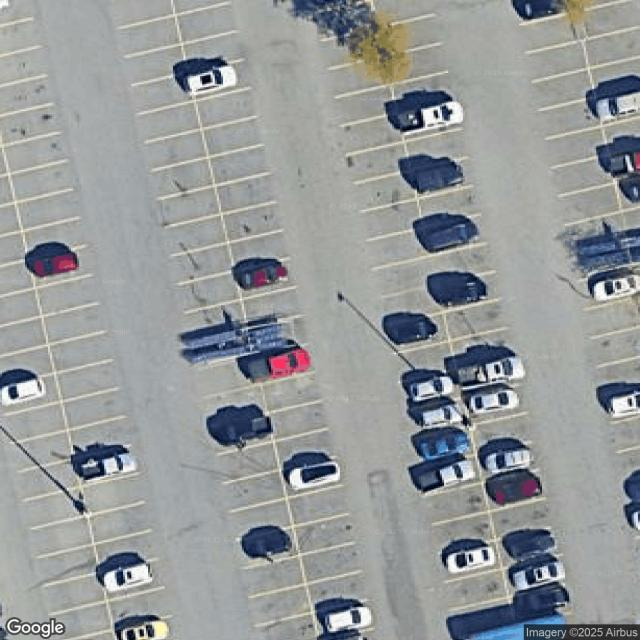car: (72, 444, 144, 490), (421, 214, 489, 256), (247, 345, 312, 383), (397, 100, 464, 136), (483, 469, 542, 507), (285, 459, 347, 492), (415, 460, 475, 494), (591, 86, 638, 129), (242, 523, 292, 562), (29, 247, 83, 283), (514, 584, 571, 618), (102, 560, 157, 595), (413, 159, 467, 194), (185, 64, 239, 98), (510, 560, 568, 591), (220, 413, 270, 447), (461, 357, 528, 382), (238, 261, 289, 292), (412, 433, 471, 458), (0, 377, 47, 408), (483, 446, 531, 475), (389, 317, 437, 346), (446, 546, 492, 575), (594, 272, 639, 300), (506, 533, 560, 556), (445, 280, 488, 308), (404, 378, 453, 402), (324, 608, 372, 631), (470, 390, 519, 411), (116, 622, 168, 640), (608, 389, 639, 419), (424, 406, 464, 427), (609, 150, 639, 178)
